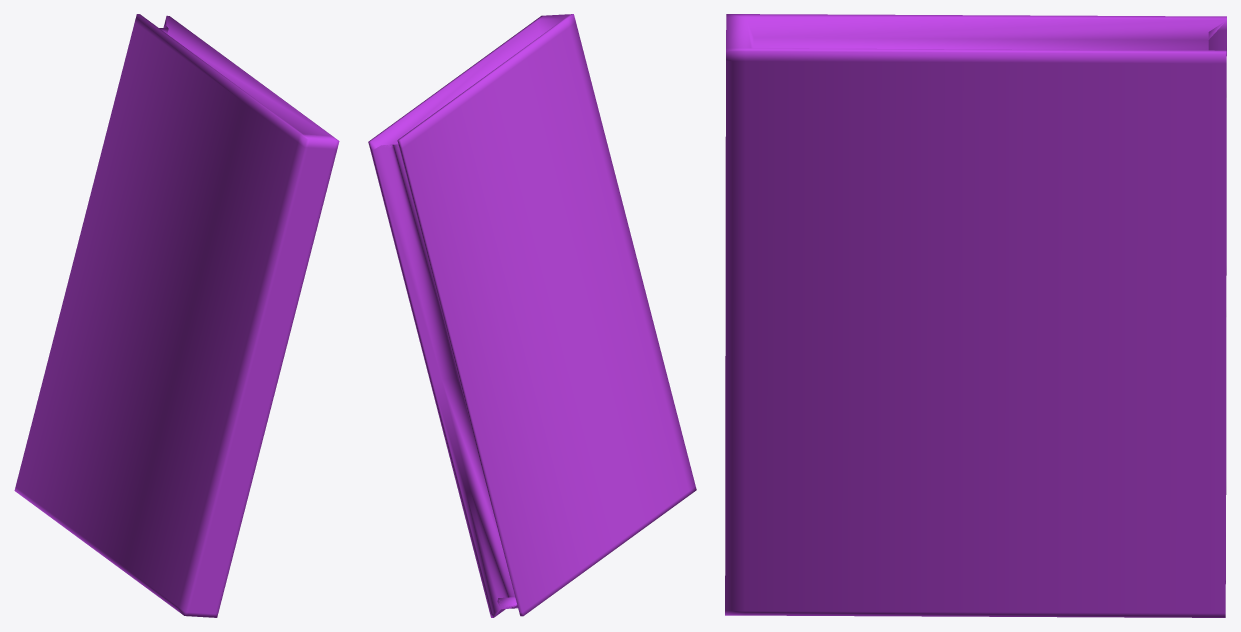
Rendered from K-Book_9.fbx.
3 renders of one model, left to right at view 1: azimuth 30°, elevation 25°; view 2: azimuth 150°, elevation 25°; view 3: azimuth 270°, elevation 25°, orthographic. The views are drawn at different scales.
Parts seen in each view (by area): view 1: Book.005; view 2: Book.005; view 3: Book.005.
Part boxes in pixels (x1,y1,x2,y2): Book.005: (14, 14, 339, 617); Book.005: (368, 14, 696, 617); Book.005: (725, 14, 1226, 617).
Bounding box in the file's own units: 19.45 × 54.19 × 36.96.
